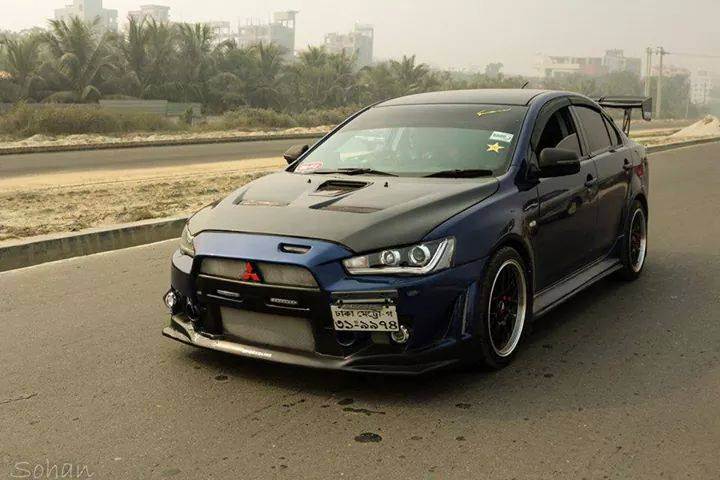registration_plate: (329, 303, 399, 332)
